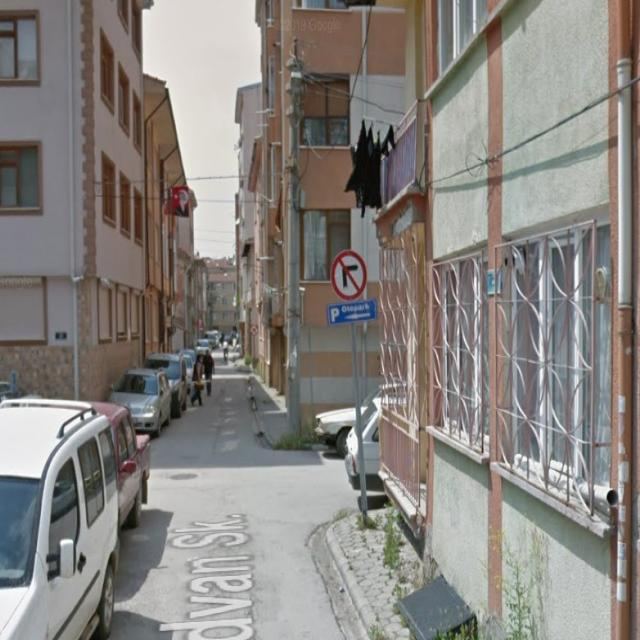sagadonulmez: (331, 249, 366, 301)
